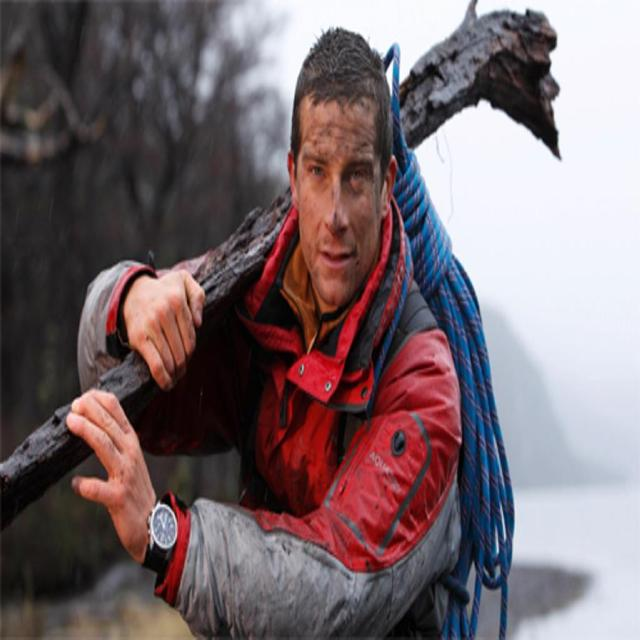Face: (298, 95, 389, 306)
